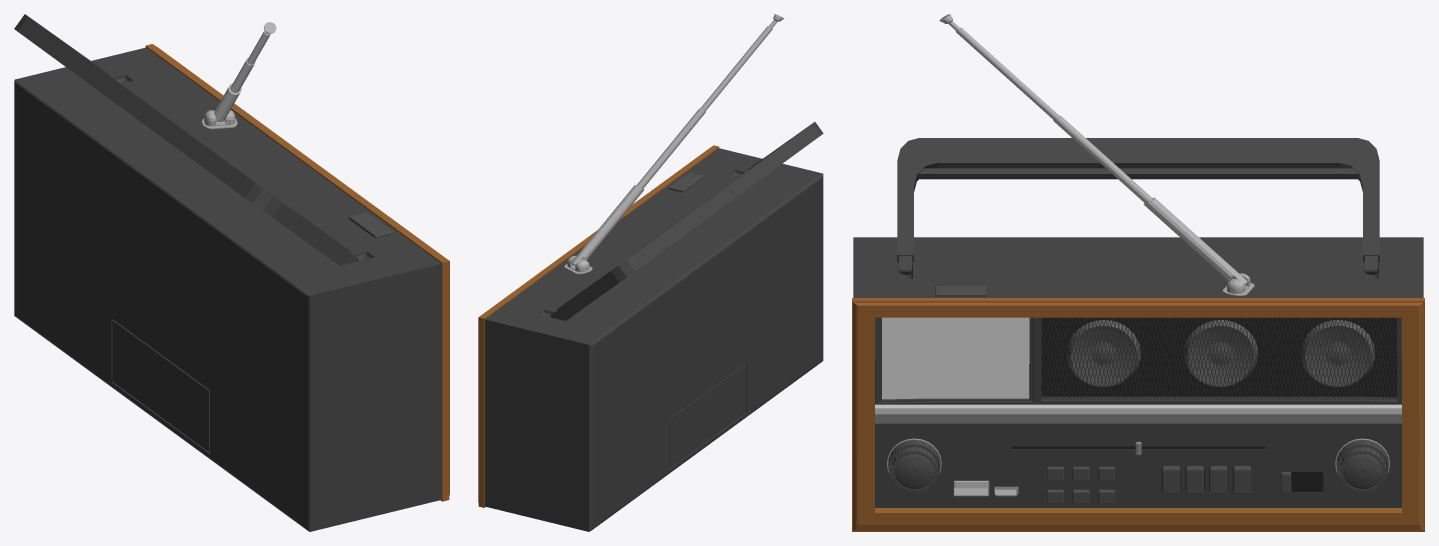
The model's file is Radio.fbx.
3 renders of one model, left to right at view 1: azimuth 30°, elevation 25°; view 2: azimuth 150°, elevation 25°; view 3: azimuth 270°, elevation 25°, orthographic. The views are drawn at different scales.
Parts seen in each view (by area): view 1: Radio, Handle, Antenna, Cube; view 2: Radio, Handle, Antenna; view 3: Radio, Handle, Speaker_Mesh, Speaker, Antenna, Dial_01, Dial_02, Play_Buttons, Save_Buttons.
Part boxes in pixels (x1,y1,x2,y2): Radio: (14,44,449,531); Handle: (14,14,358,265); Antenna: (214,22,276,122); Cube: (348,212,394,238); Radio: (478,145,823,531); Handle: (550,122,823,320); Antenna: (571,14,783,265); Radio: (852,237,1424,531); Handle: (897,138,1379,274); Speaker_Mesh: (1041,317,1397,400); Speaker: (1066,320,1375,386); Antenna: (939,14,1247,284); Dial_01: (1336,440,1388,492); Dial_02: (888,440,940,492); Play_Buttons: (1162,466,1251,494); Save_Buttons: (1047,466,1114,504).
Size of the model in its own units: 69.13 by 171 by 194.
